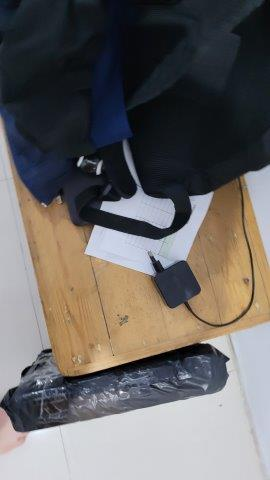kertas: (82, 134, 212, 280)
